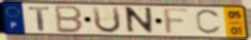B: (54, 4, 85, 35)
C: (194, 9, 223, 36)
F: (162, 7, 193, 36)
N: (125, 6, 155, 35)
T: (27, 6, 51, 32)
U: (91, 6, 123, 35)
